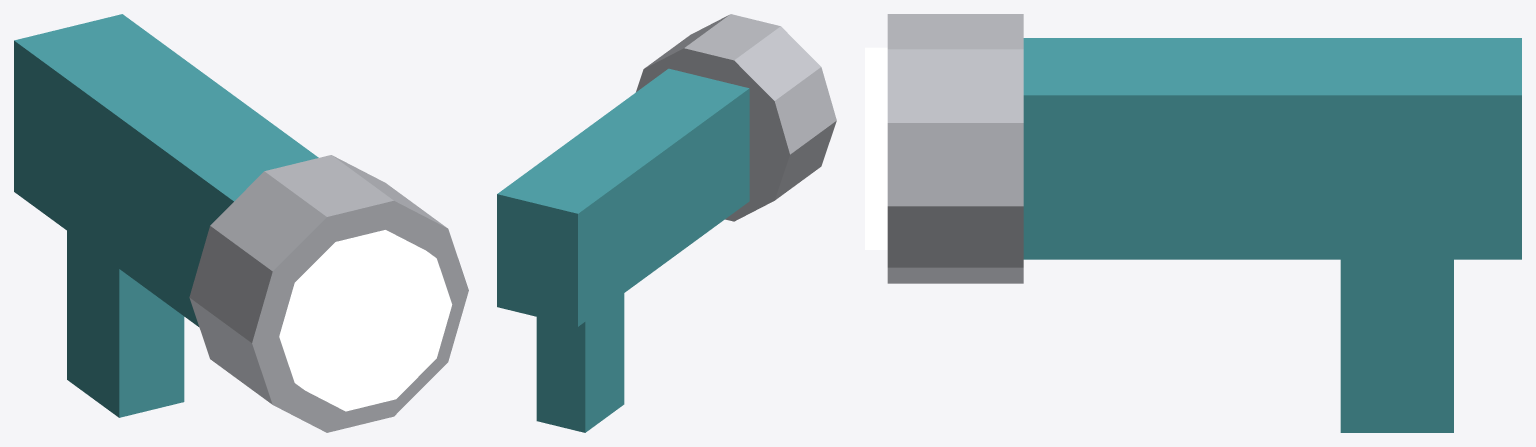
File: item_F2_PurgeEmitter.glb
3 renders of one model, left to right at view 1: azimuth 30°, elevation 25°; view 2: azimuth 150°, elevation 25°; view 3: azimuth 270°, elevation 25°, orthographic. The views are drawn at different scales.
Visible parts, largest first — view 1: Item_F2_PurgeEmitter; view 2: Item_F2_PurgeEmitter; view 3: Item_F2_PurgeEmitter.
Part boxes in pixels (<box>): Item_F2_PurgeEmitter: <box>14,14,468,432</box>; Item_F2_PurgeEmitter: <box>497,14,836,432</box>; Item_F2_PurgeEmitter: <box>865,14,1521,432</box>.
Bounding box in the file's own units: 0.12 × 0.1871 × 0.29.
